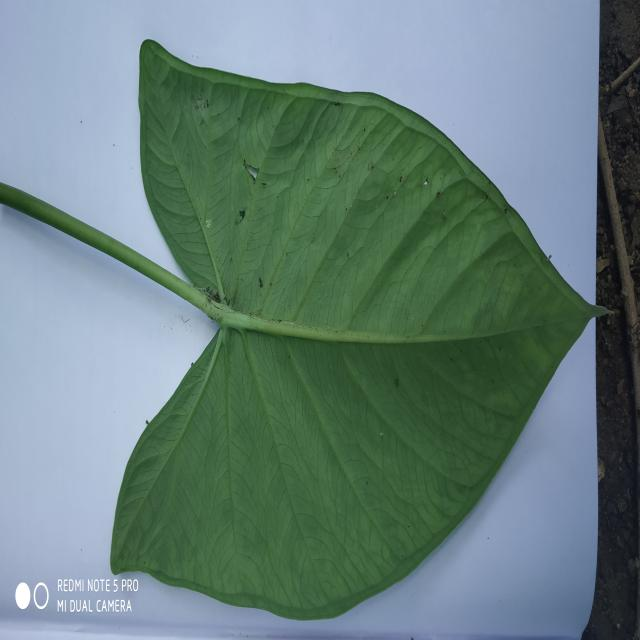taro: (111, 40, 595, 620)
